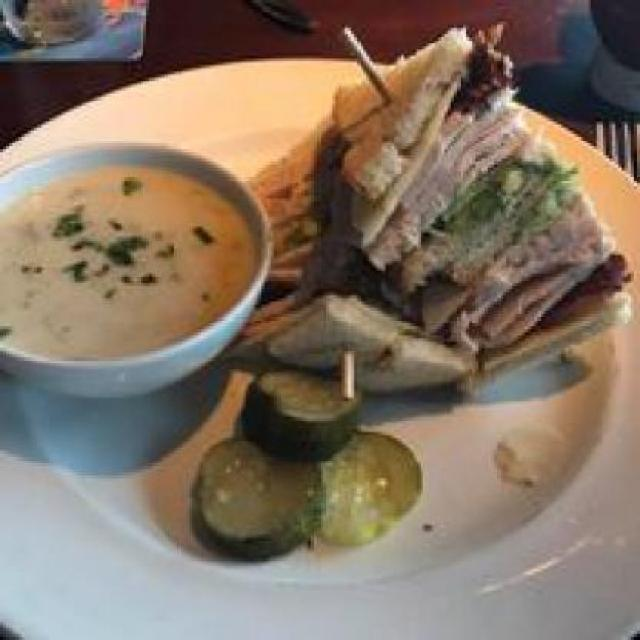clam chowder: (6, 121, 259, 388)
club sandwich: (271, 31, 612, 402)
